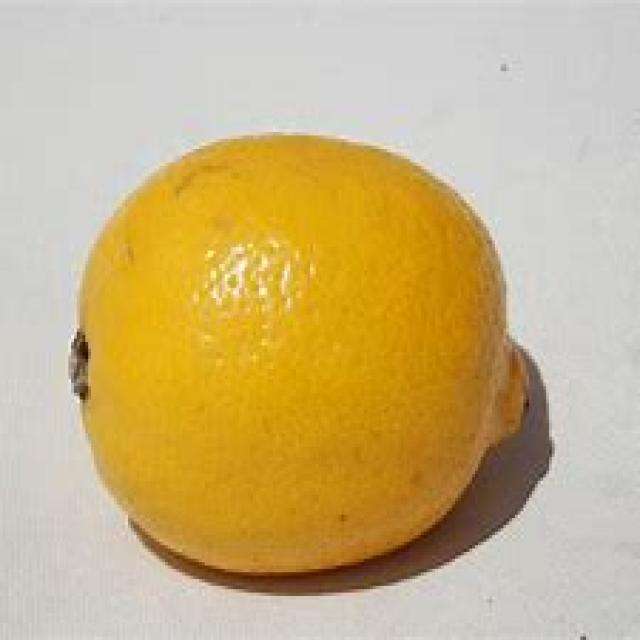Lemon: (70, 132, 533, 579)
